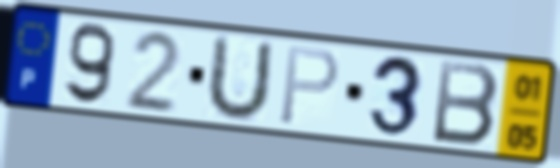2: (123, 28, 186, 116)
3: (367, 51, 425, 142)
9: (61, 22, 118, 107)
B: (429, 57, 502, 150)
P: (276, 44, 342, 128)
U: (201, 32, 277, 124)
